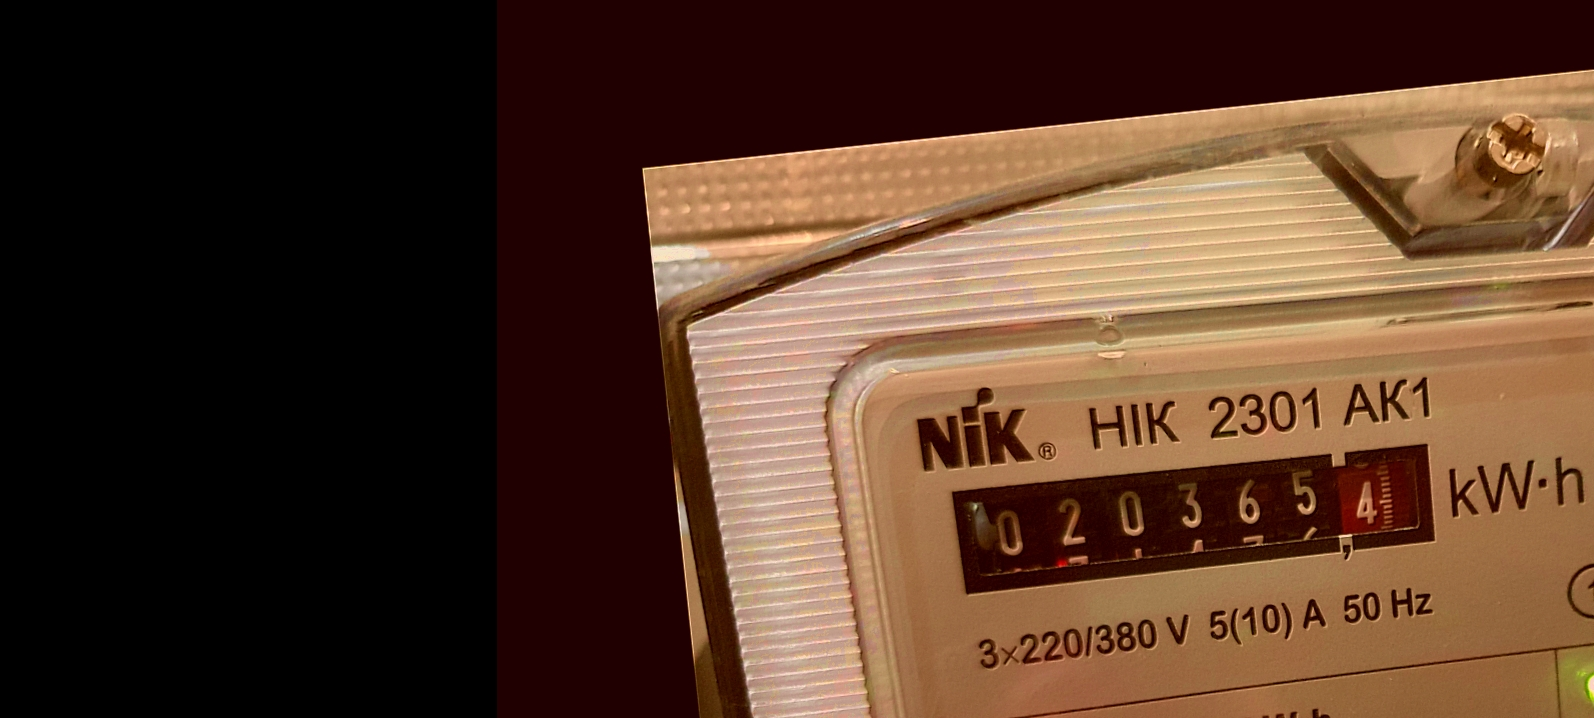0: (992, 503, 1030, 561), (1116, 487, 1151, 540)
2: (1055, 494, 1090, 548)
3: (1175, 479, 1208, 531)
4: (1352, 476, 1380, 527)
5: (1291, 468, 1323, 517)
6: (1234, 474, 1265, 527)
screen: (938, 423, 1457, 612)
